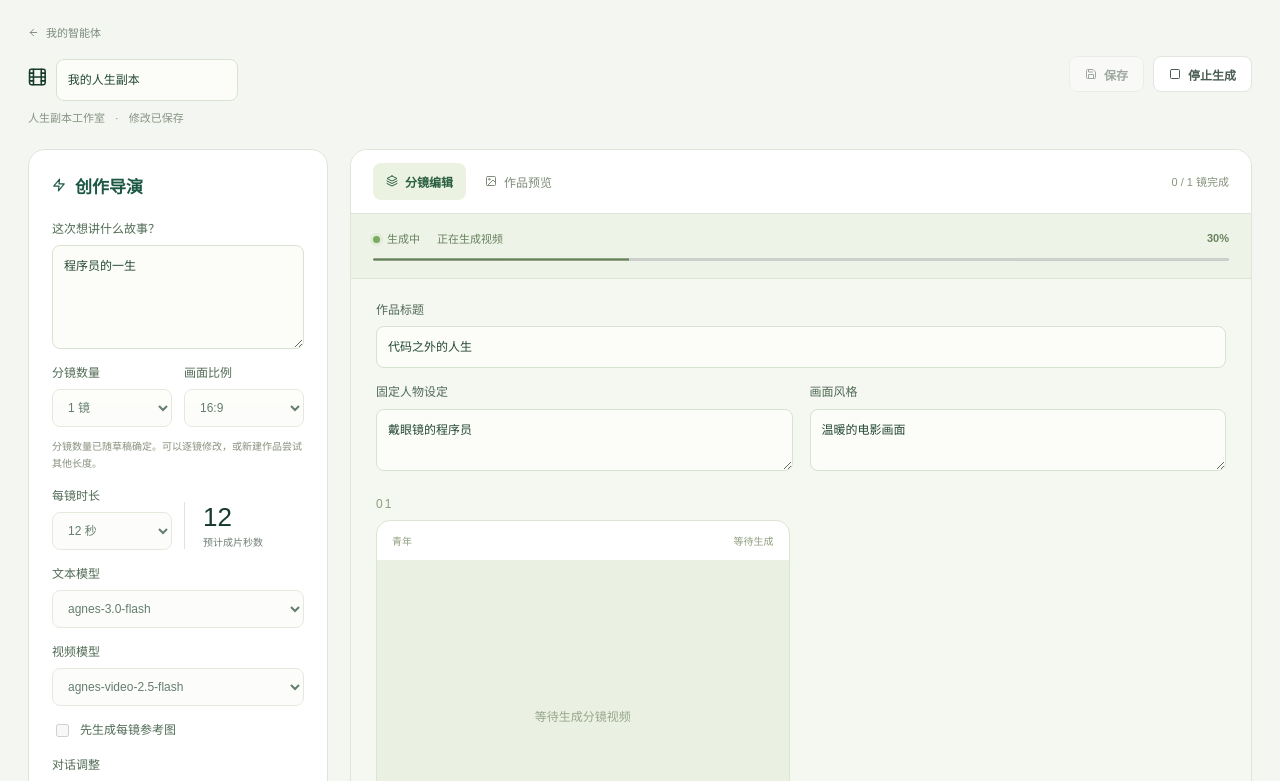
停止请求失败时保留运行状态和编辑锁，可以再次停止
The width and height of the screenshot is (1280, 781).
Click the button "停止生成".
click(1202, 74)  # box [1153, 56, 1252, 92]
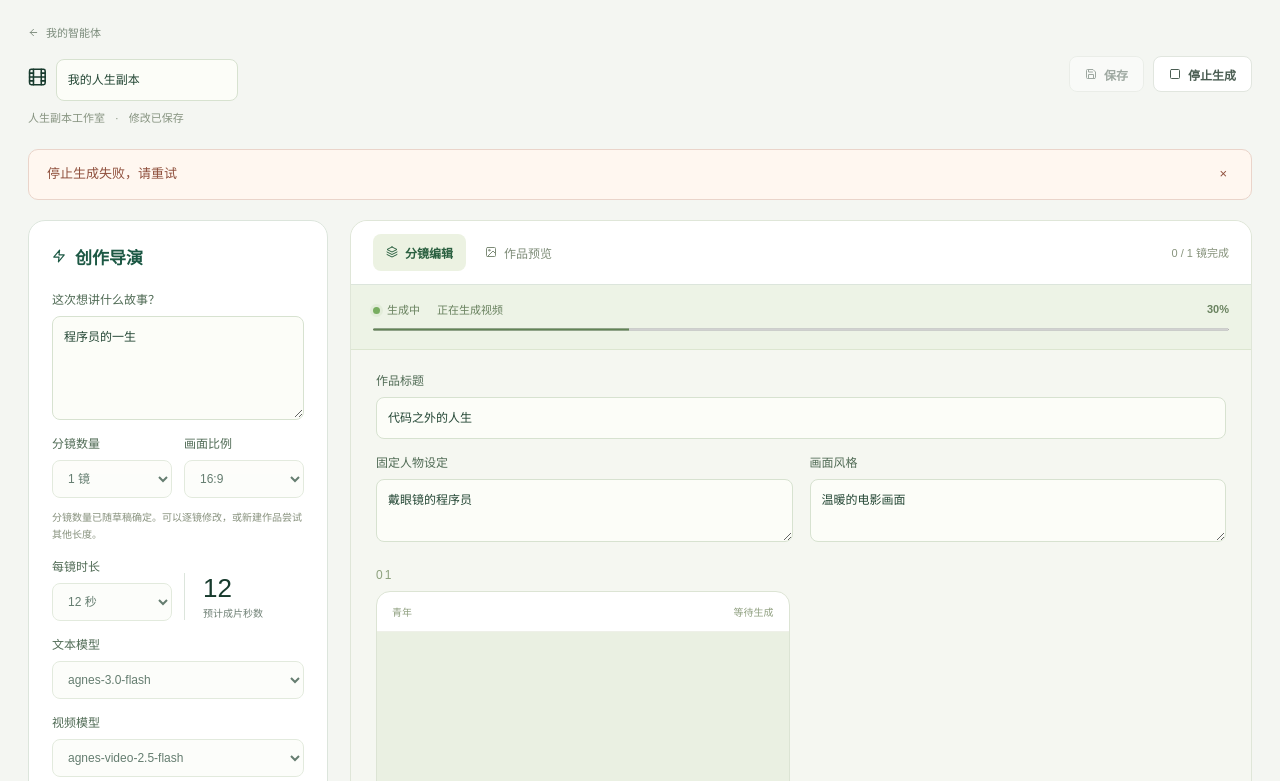
Check: the message "停止生成失败，请重试 ×" is shown, box [28, 149, 1252, 200]
Click the button "停止生成".
click(1202, 74)  # box [1153, 56, 1252, 92]
(page scrolled)
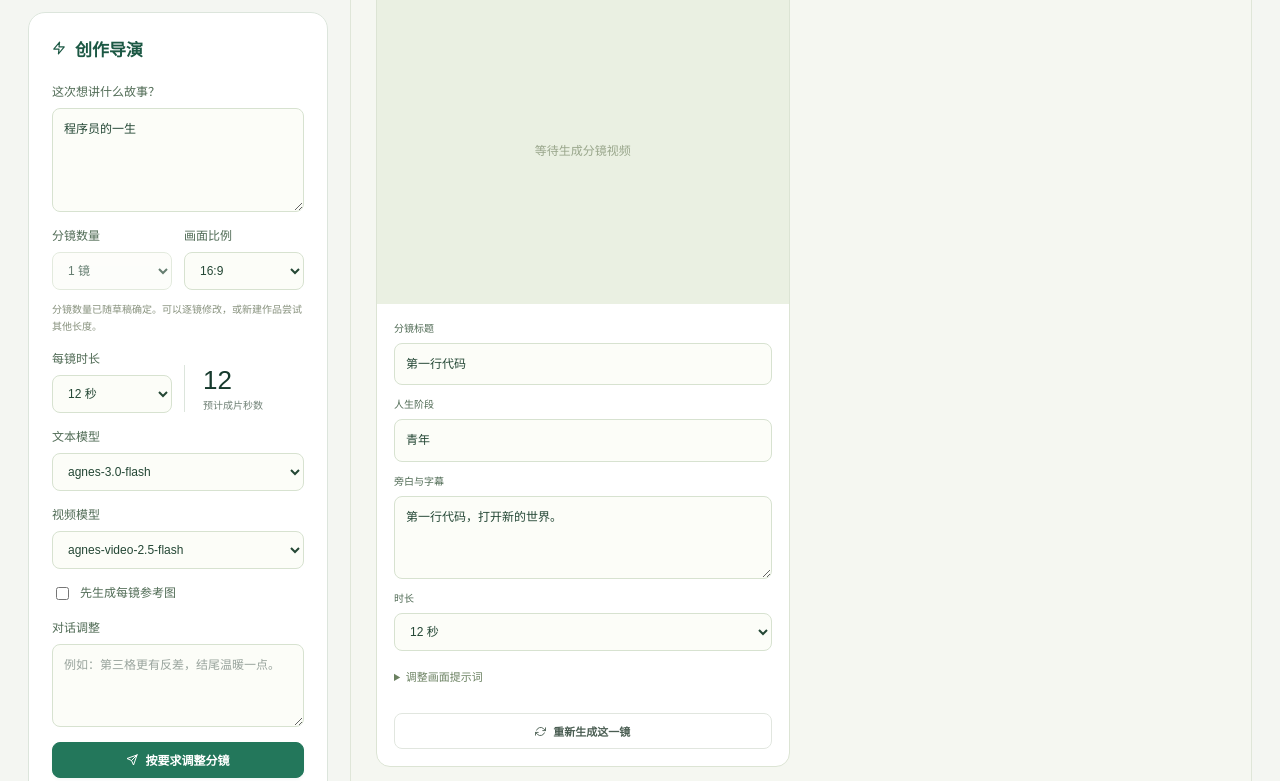
Check: the text box named "scene-1 旁白" is enabled, box [394, 496, 772, 579]
